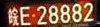E: (20, 7, 31, 25)
